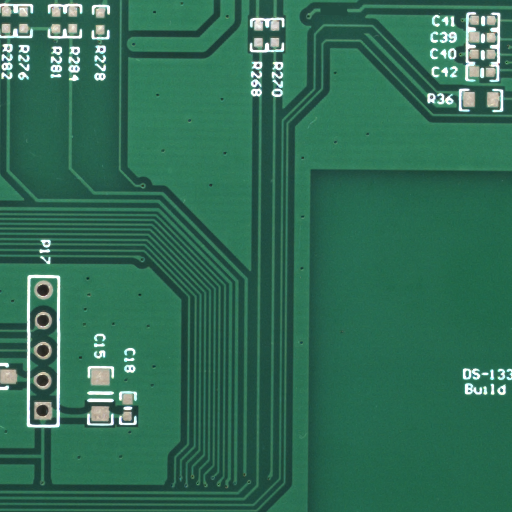Open_circuit: (335, 10, 369, 23)
